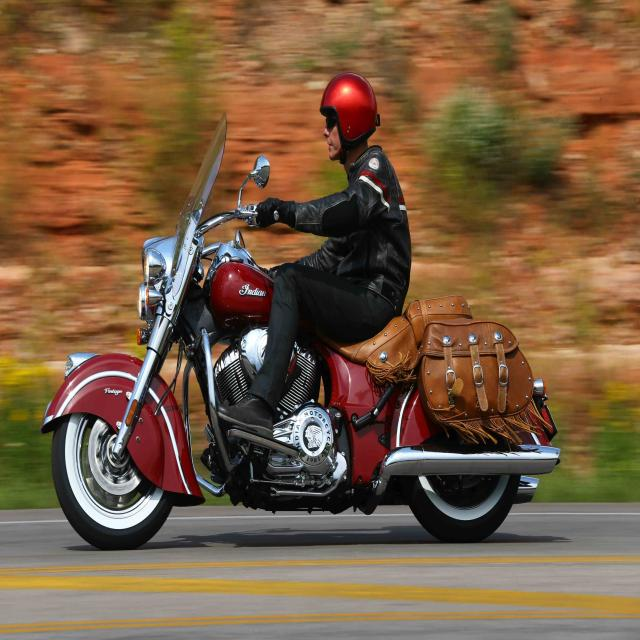motorcycle: (41, 73, 560, 549)
